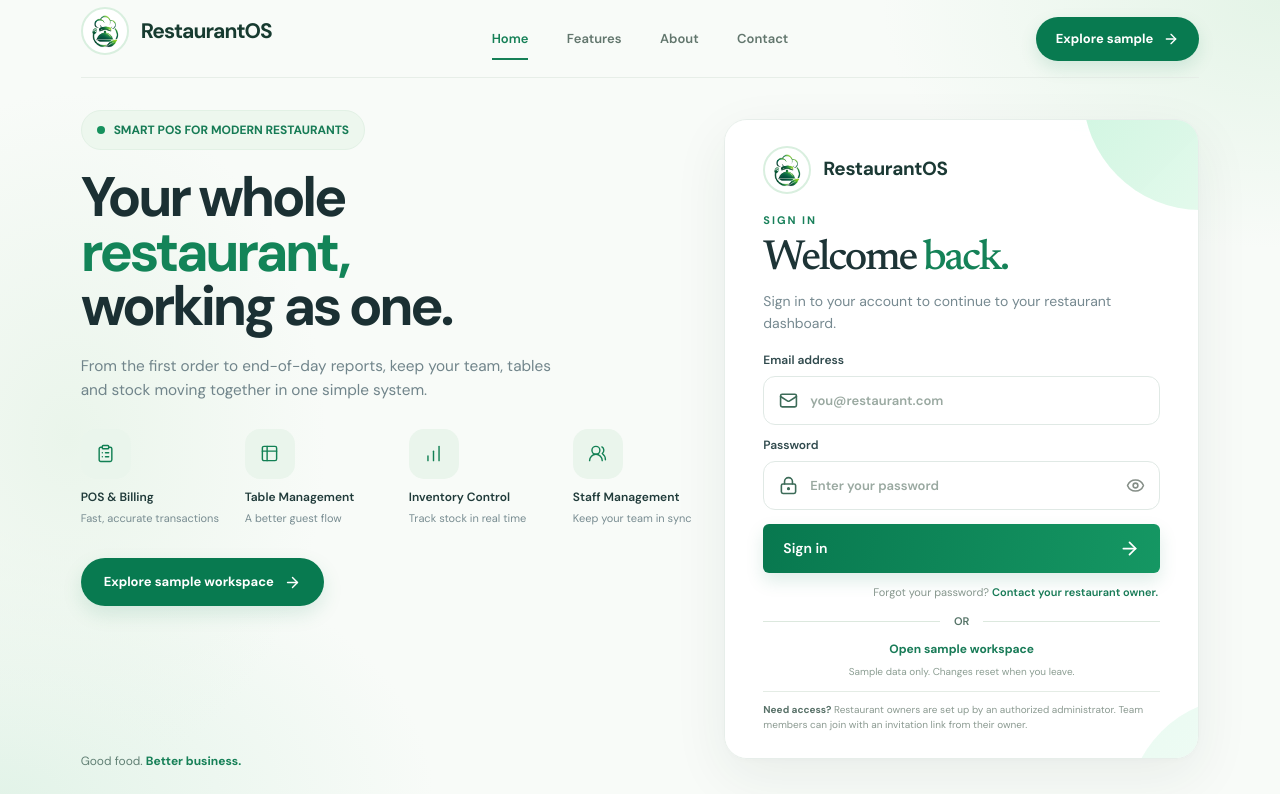
it: authentication routes › opens the sample dashboard without Firebase credentials
Click the button "Open sample workspace". click: click(962, 650)
box: [889,638,1034,662]
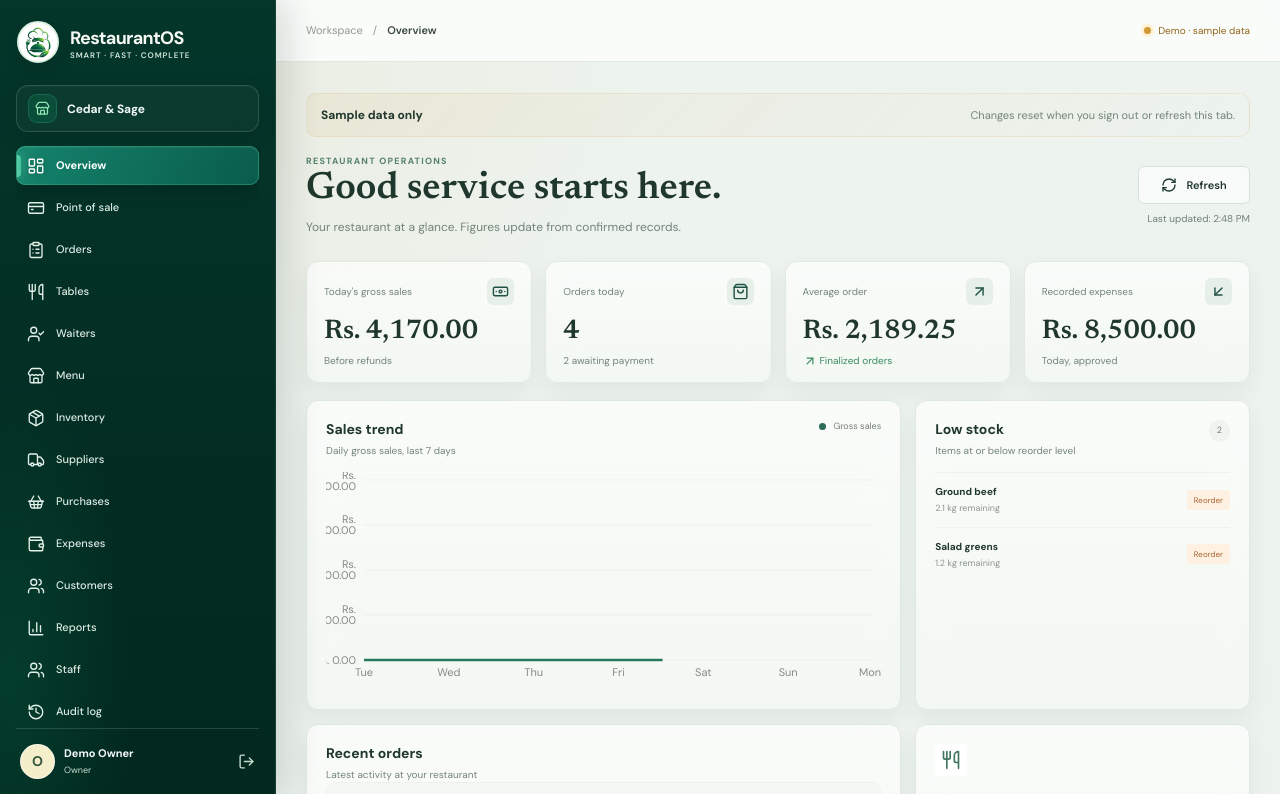
Now the text "Demo · sample data" is shown, box [1144,23,1250,38]
Now the navigation bar named "main navigation" is shown, box [16,146,259,728]
Now the text "Cedar & Sage" is shown, box [67,100,145,118]
